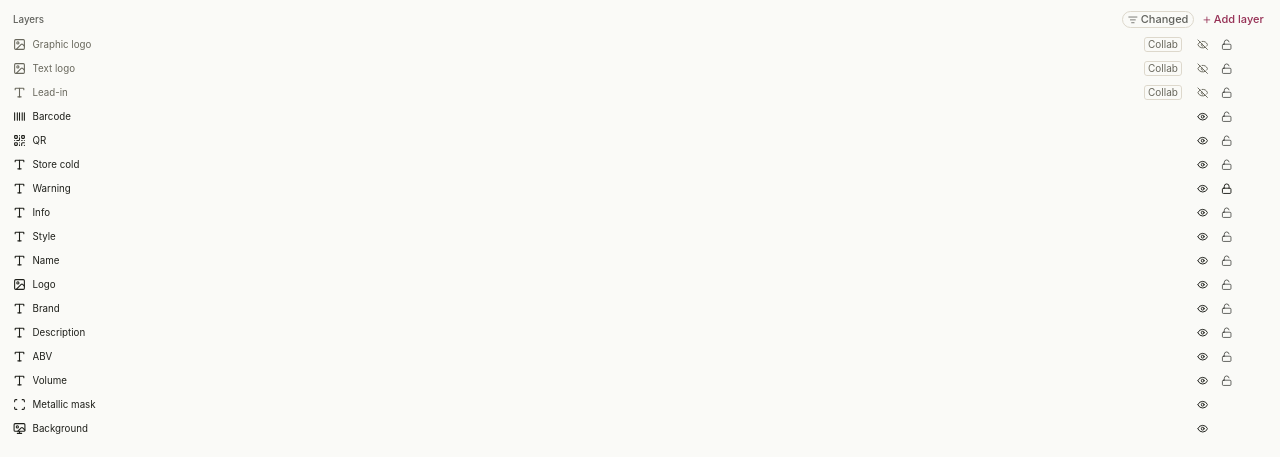
LayerList › offers no lock on page art
The image size is (1280, 457).
Right-click the element showing "Background": (640, 428) [6, 416, 1274, 440]
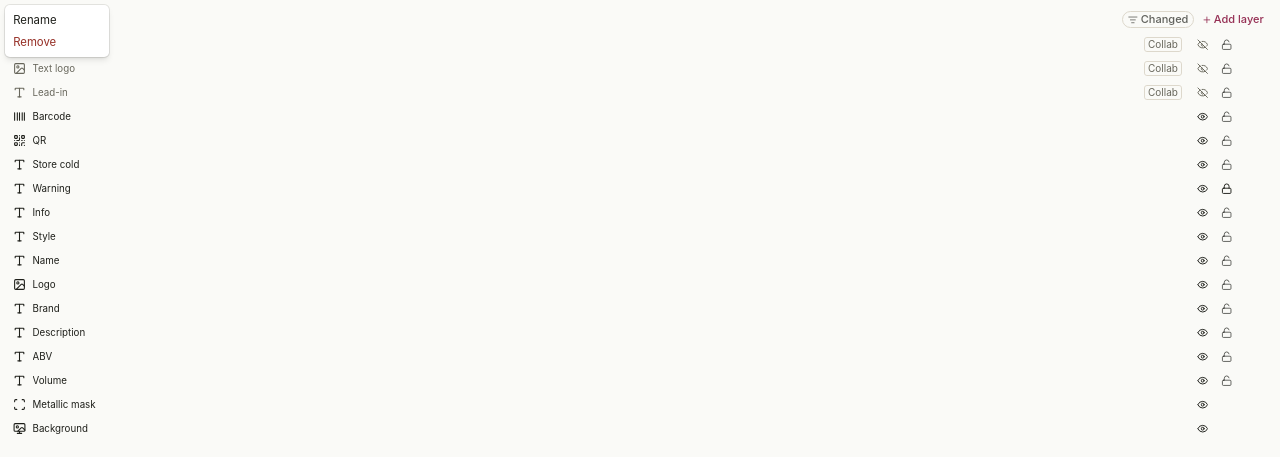
Result: the menu item "Rename" is shown at [13, 12, 56, 26]
